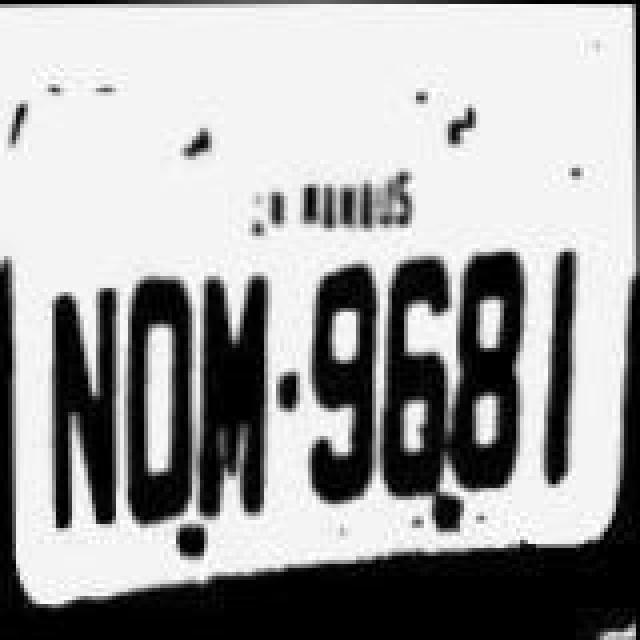1: (536, 208, 612, 496)
6: (376, 236, 460, 516)
8: (442, 222, 530, 514)
9: (302, 244, 386, 528)
M: (198, 252, 282, 548)
N: (46, 274, 130, 550)
O: (126, 264, 210, 540)
